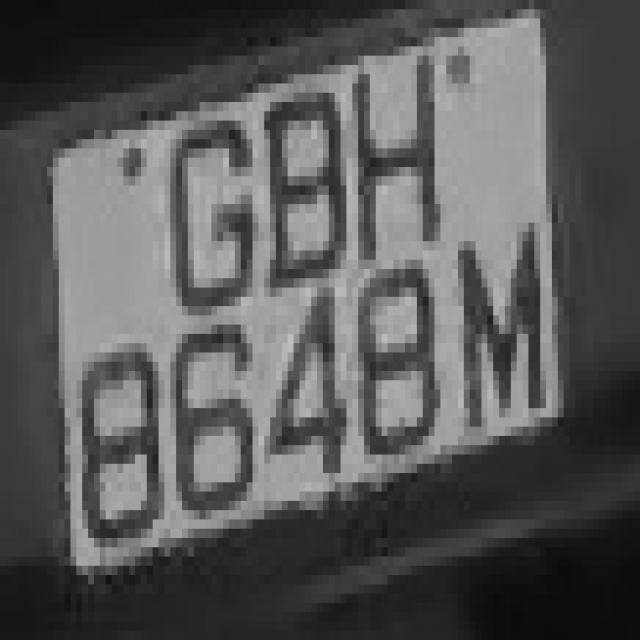4: (247, 315, 358, 529)
6: (152, 297, 252, 547)
8: (59, 334, 164, 575), (346, 269, 446, 492)
B: (253, 74, 364, 288)
G: (147, 102, 264, 343)
H: (341, 46, 452, 278)
M: (452, 241, 570, 473)
